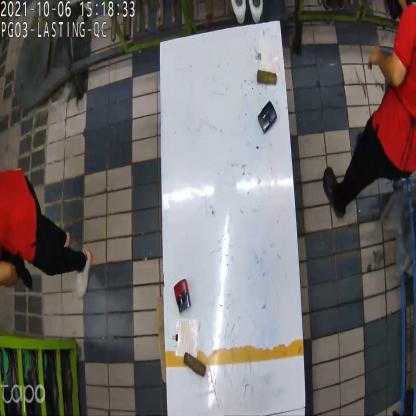stamp: (174, 280, 193, 316), (258, 101, 276, 135)
